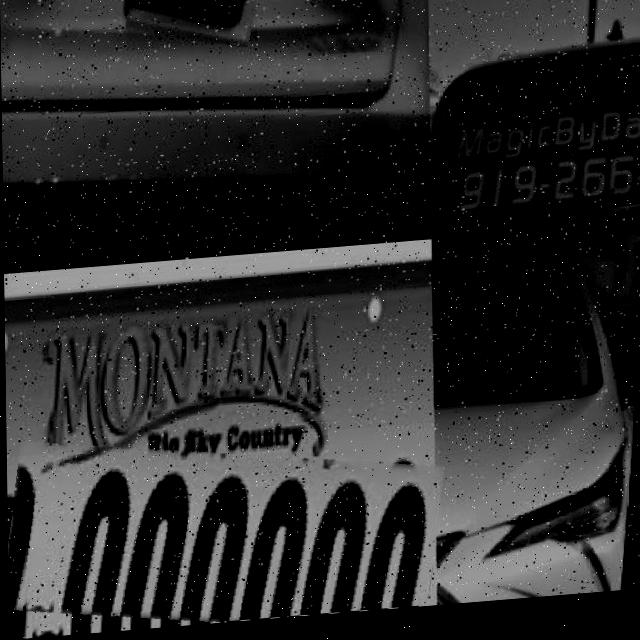LicensePlate: (5, 429, 439, 640), (126, 0, 257, 53)
